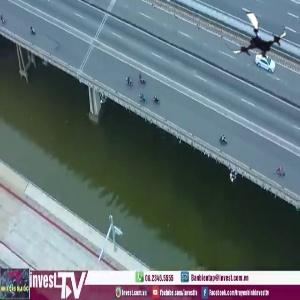drone: (226, 7, 288, 69)
